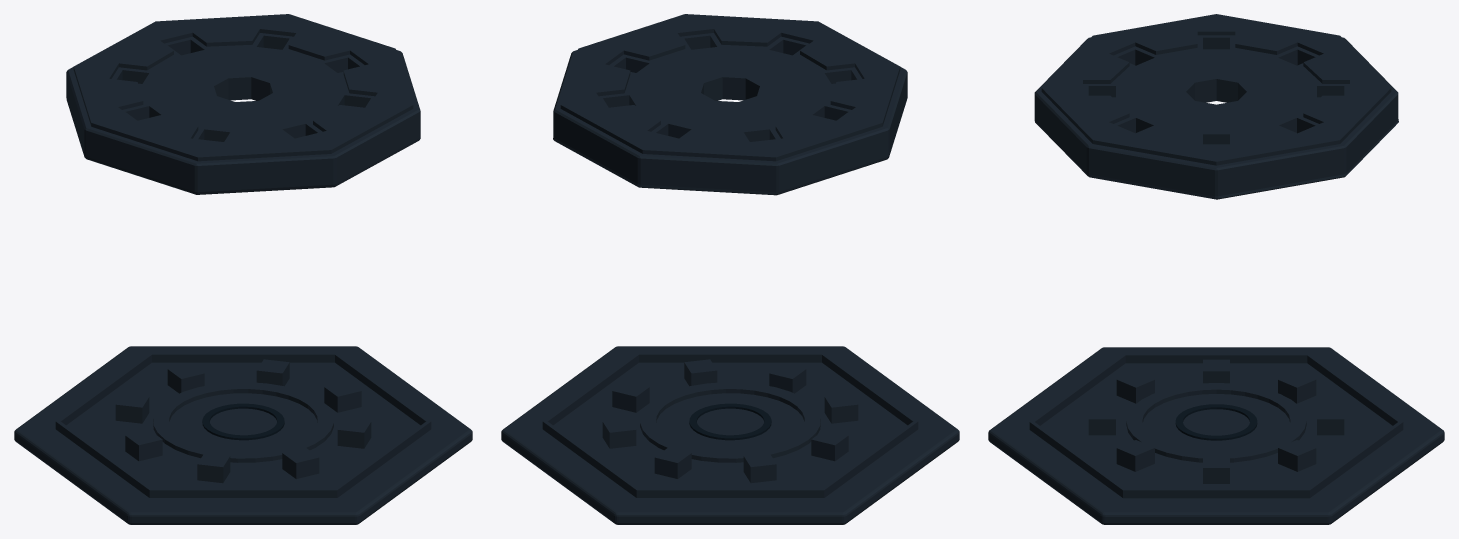
Rendered from reactor.glb.
3 renders of one model, left to right at view 1: azimuth 30°, elevation 25°; view 2: azimuth 150°, elevation 25°; view 3: azimuth 270°, elevation 25°, orthographic.
Parts seen in each view (by area): view 1: REACTOR_UPPER_PLATFORM, REACTOR_PLATFORM_BASE, REACTOR_DETAIL, REACTOR_MIDDLE_ARC, REACTOR_INNER_ARC; view 2: REACTOR_UPPER_PLATFORM, REACTOR_PLATFORM_BASE, REACTOR_DETAIL, REACTOR_MIDDLE_ARC, REACTOR_INNER_ARC; view 3: REACTOR_UPPER_PLATFORM, REACTOR_PLATFORM_BASE, REACTOR_DETAIL, REACTOR_MIDDLE_ARC, REACTOR_INNER_ARC.
Part boxes in pixels (x1,y1,x2,y2): REACTOR_UPPER_PLATFORM: (66, 14, 420, 194); REACTOR_PLATFORM_BASE: (14, 346, 472, 524); REACTOR_DETAIL: (115, 359, 371, 483); REACTOR_MIDDLE_ARC: (153, 382, 333, 462); REACTOR_INNER_ARC: (202, 403, 284, 440); REACTOR_UPPER_PLATFORM: (553, 14, 907, 195); REACTOR_PLATFORM_BASE: (501, 346, 959, 524); REACTOR_DETAIL: (602, 359, 858, 483); REACTOR_MIDDLE_ARC: (640, 382, 820, 462); REACTOR_INNER_ARC: (689, 403, 771, 440); REACTOR_UPPER_PLATFORM: (1034, 14, 1398, 199); REACTOR_PLATFORM_BASE: (988, 347, 1444, 524); REACTOR_DETAIL: (1088, 359, 1344, 483); REACTOR_MIDDLE_ARC: (1126, 383, 1306, 462); REACTOR_INNER_ARC: (1175, 404, 1257, 440).
Size of the model in its own units: 6.52 by 6.43 by 7.49.
